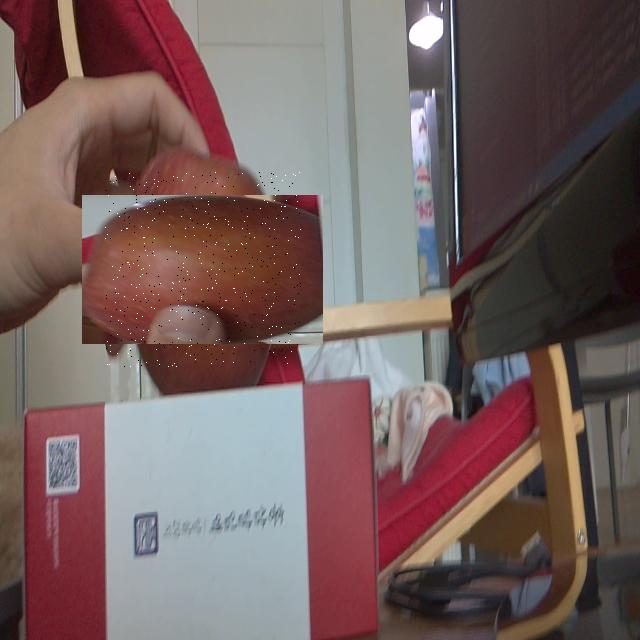apple: (105, 172, 301, 367)
